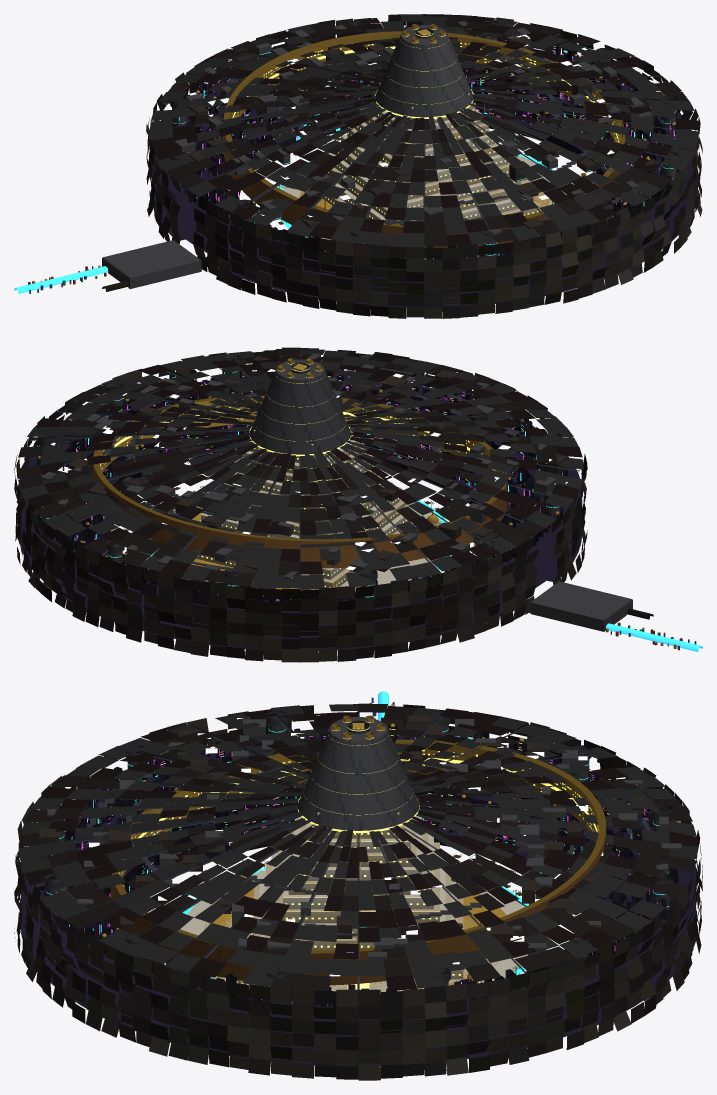
File: shaddai_bazaar_city_v02.glb
The picture shows the model from 3 angles, top to bottom: view 1: azimuth 30°, elevation 25°; view 2: azimuth 150°, elevation 25°; view 3: azimuth 270°, elevation 25°; orthographic projection. The views are drawn at different scales.
Visible parts, largest first — view 1: shaddai_bazaar_city; view 2: shaddai_bazaar_city; view 3: shaddai_bazaar_city.
Boxes of the visible parts, box(x1,y1,x2,y2) form: shaddai_bazaar_city: box(14, 14, 702, 318); shaddai_bazaar_city: box(14, 347, 702, 662); shaddai_bazaar_city: box(14, 691, 702, 1080).
Bounding box in the file's own units: 1133 × 292 × 856.
